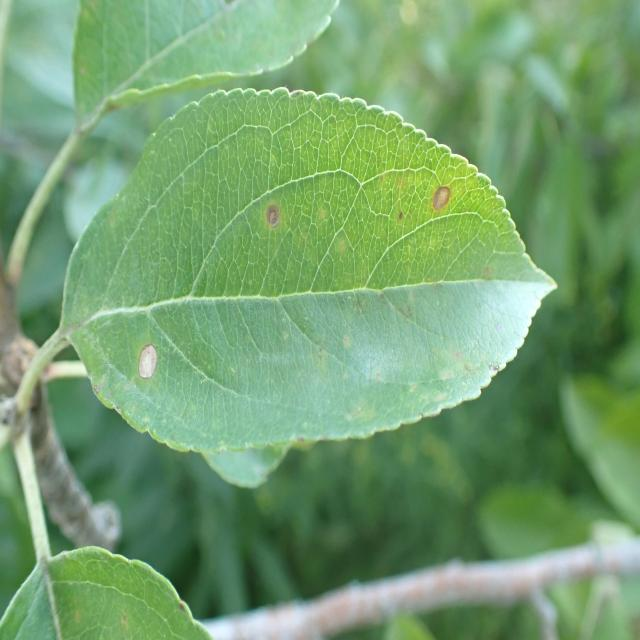frog-eye-leaf-spot: (61, 86, 560, 453)
